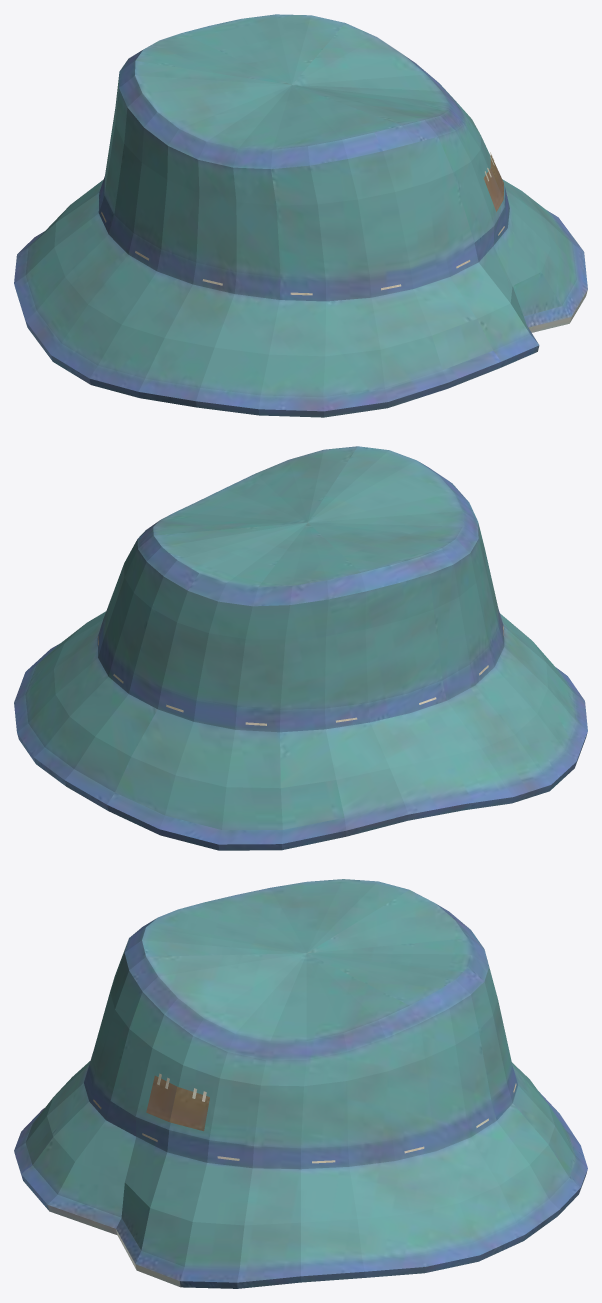
File: D14_old_hat_v2.glb
The picture shows the model from 3 angles, top to bottom: view 1: azimuth 30°, elevation 25°; view 2: azimuth 150°, elevation 25°; view 3: azimuth 270°, elevation 25°; orthographic projection.
Parts seen in each view (by area): view 1: Old Hat - Torn Bucket Hat; view 2: Old Hat - Torn Bucket Hat; view 3: Old Hat - Torn Bucket Hat.
Part boxes in pixels (x1,y1,x2,y2): Old Hat - Torn Bucket Hat: (14,14,587,417); Old Hat - Torn Bucket Hat: (14,446,587,850); Old Hat - Torn Bucket Hat: (14,879,587,1288).
Size of the model in its own units: 0.3 by 0.1335 by 0.294.
Materials: 5 (5 with a texture image).
